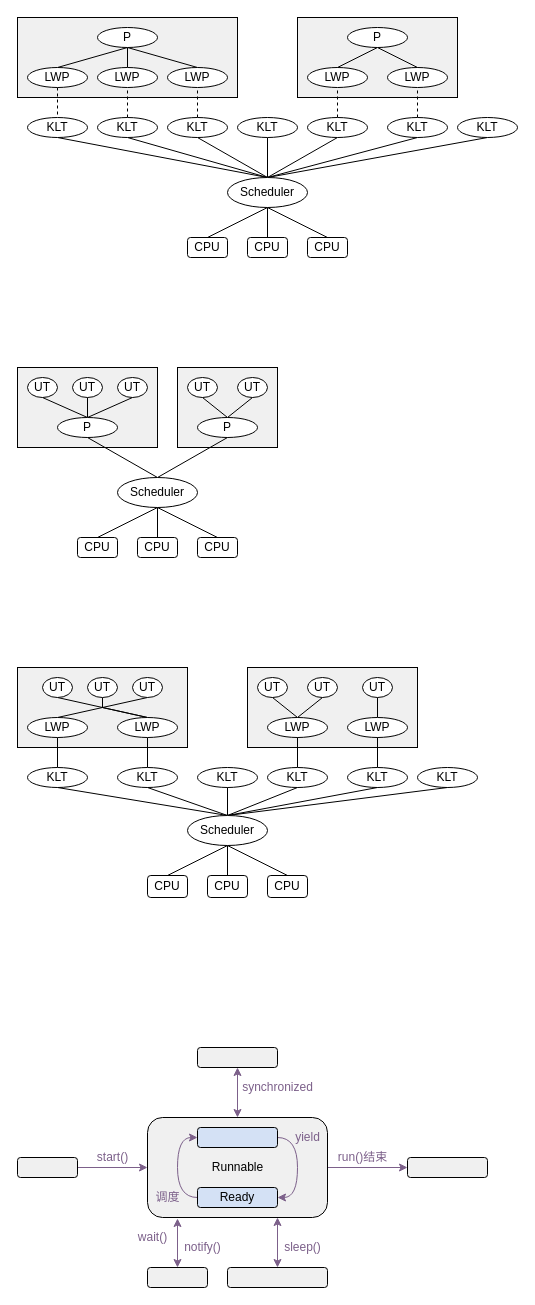
The diagram is 535 pixels wide and 1305 high, and some of its shapes have lost their labels. Each missing label, with the centre of its shape:
Blocked: point 237,1057
New: point 47,1167
Running: point 237,1137
Terminated: point 447,1167
Timed Waiting: point 277,1277
Waiting: point 177,1277
